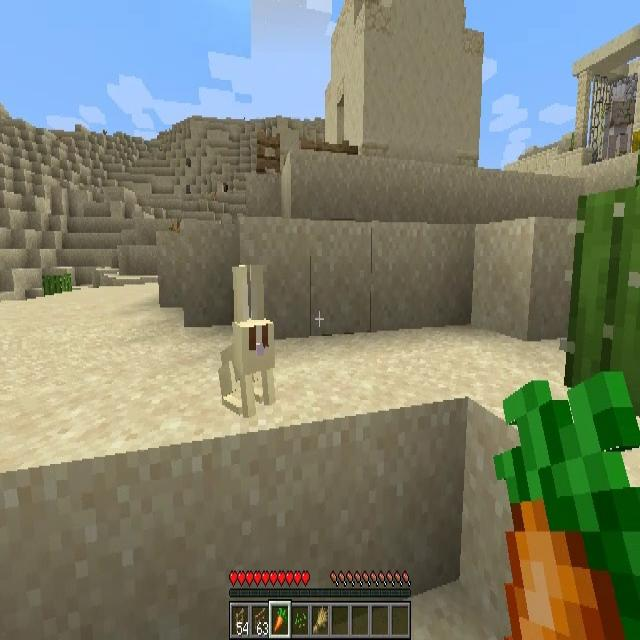rabbit: (220, 267, 276, 411)
